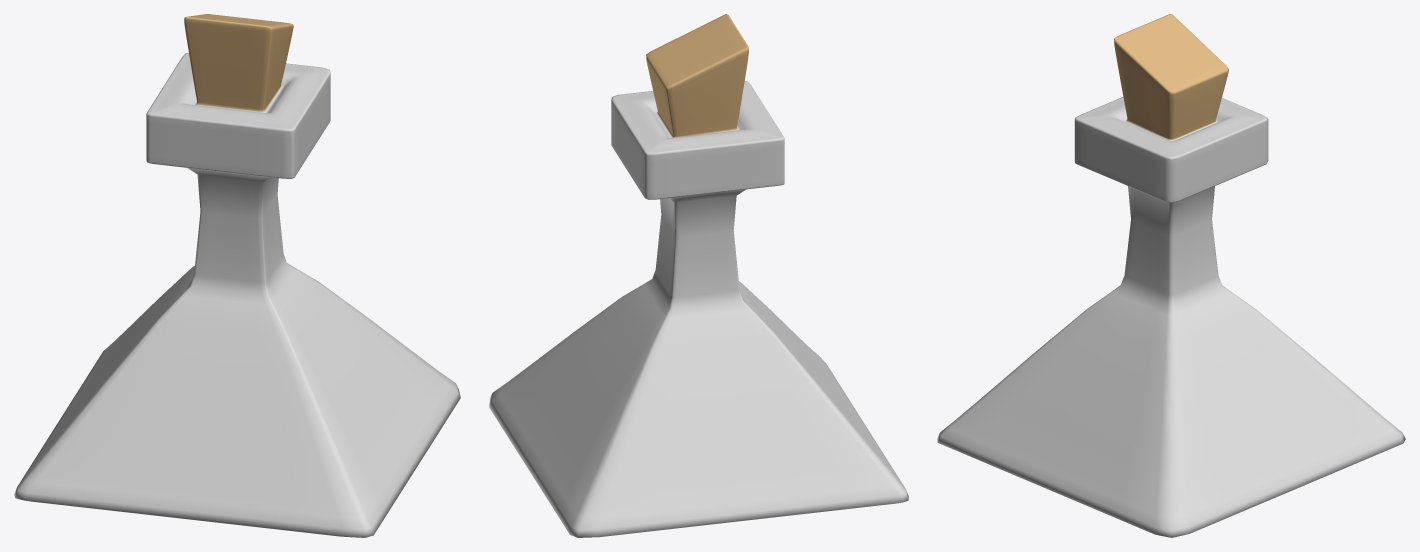
The model's file is squareBottle.fbx.
The picture shows the model from 3 angles, left to right: view 1: azimuth 30°, elevation 25°; view 2: azimuth 150°, elevation 25°; view 3: azimuth 270°, elevation 25°; orthographic projection. The views are drawn at different scales.
Parts seen in each view (by area): view 1: squareBottle; view 2: squareBottle; view 3: squareBottle.
Part boxes in pixels (box(x1,y1,x2,y2)): squareBottle: box(14, 14, 460, 537); squareBottle: box(489, 14, 908, 537); squareBottle: box(937, 14, 1405, 537).
Size of the model in its own units: 2.05 by 1.97 by 2.05.
